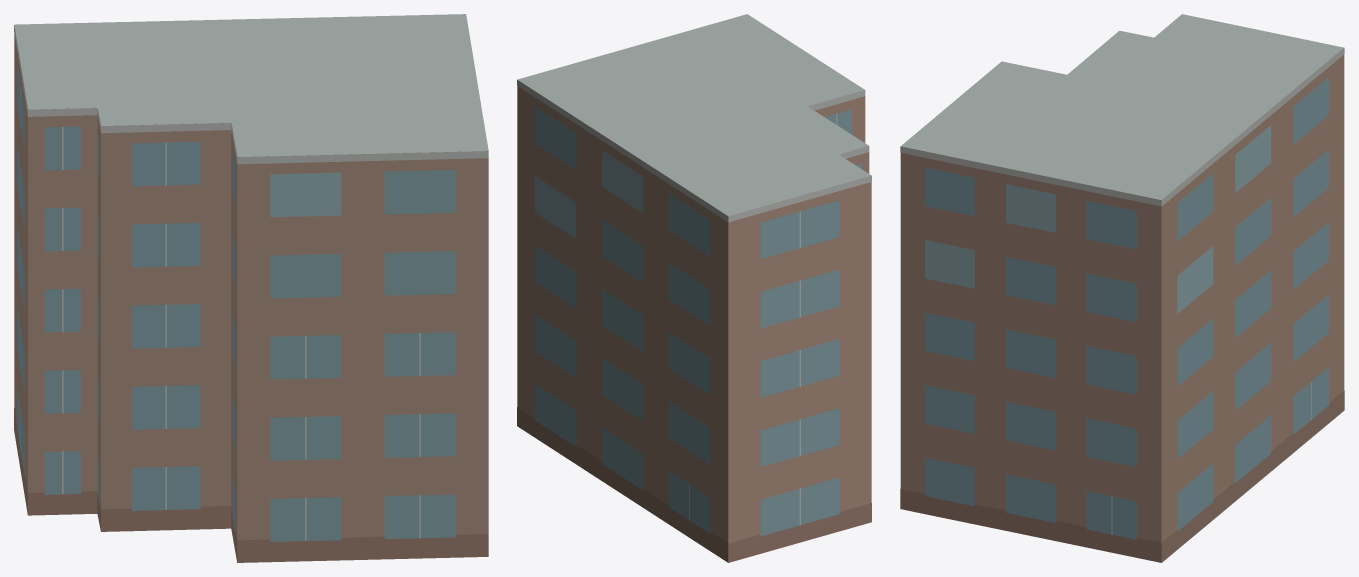
File: survey-upis-33010609.glb
3 renders of one model, left to right at view 1: azimuth 30°, elevation 25°; view 2: azimuth 150°, elevation 25°; view 3: azimuth 270°, elevation 25°, orthographic. The views are drawn at different scales.
Parts seen in each view (by area): view 1: survey-upis-33010609.tmp; view 2: survey-upis-33010609.tmp; view 3: survey-upis-33010609.tmp.
Part boxes in pixels (<box>): survey-upis-33010609.tmp: <box>14,14,488,562</box>; survey-upis-33010609.tmp: <box>517,14,871,562</box>; survey-upis-33010609.tmp: <box>900,14,1344,562</box>.
Bounding box in the file's own units: 15.2 × 13.8 × 15.32.
